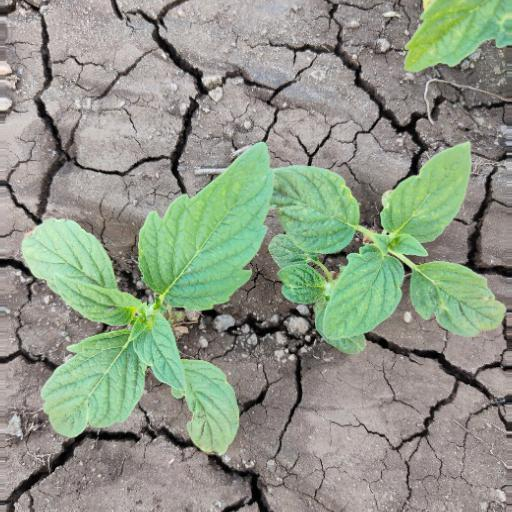crop: (20, 146, 291, 463), (265, 120, 508, 384)
